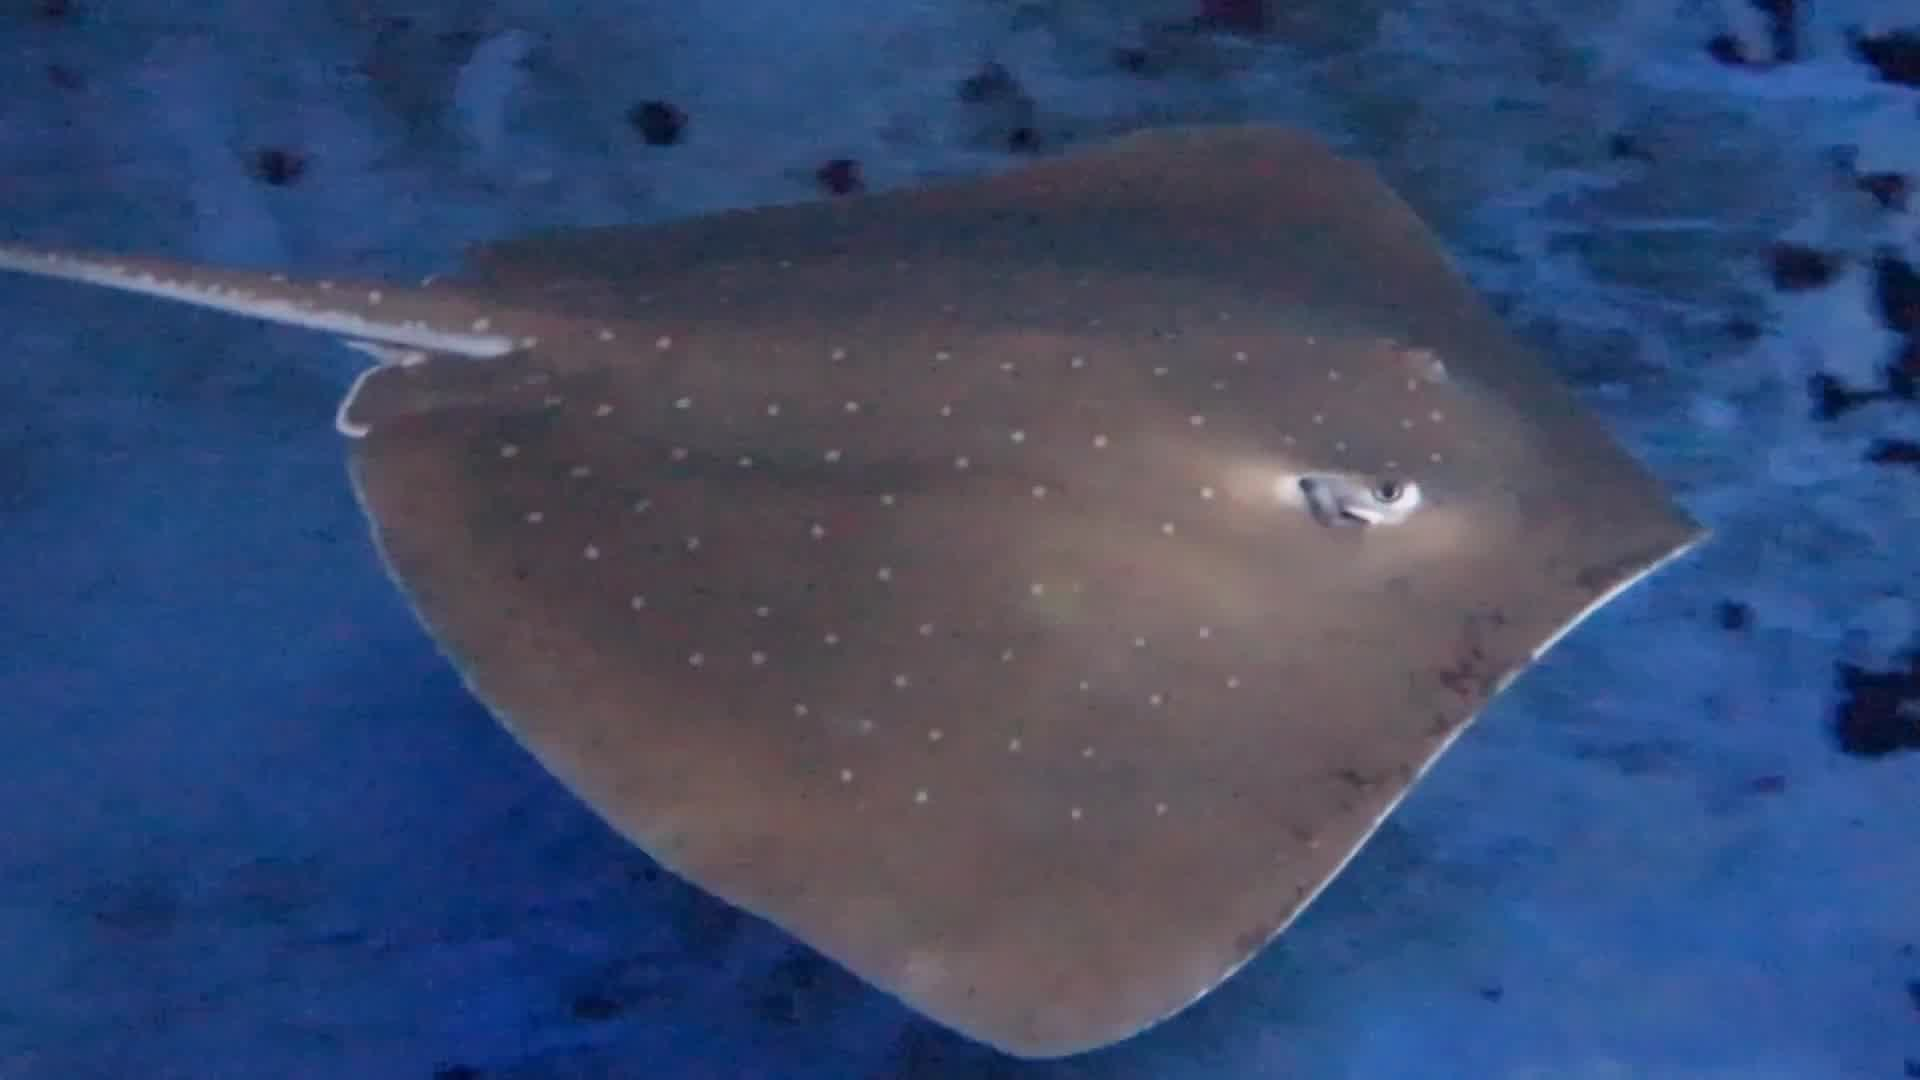Himantura gerrardi: (18, 105, 1735, 1067)
